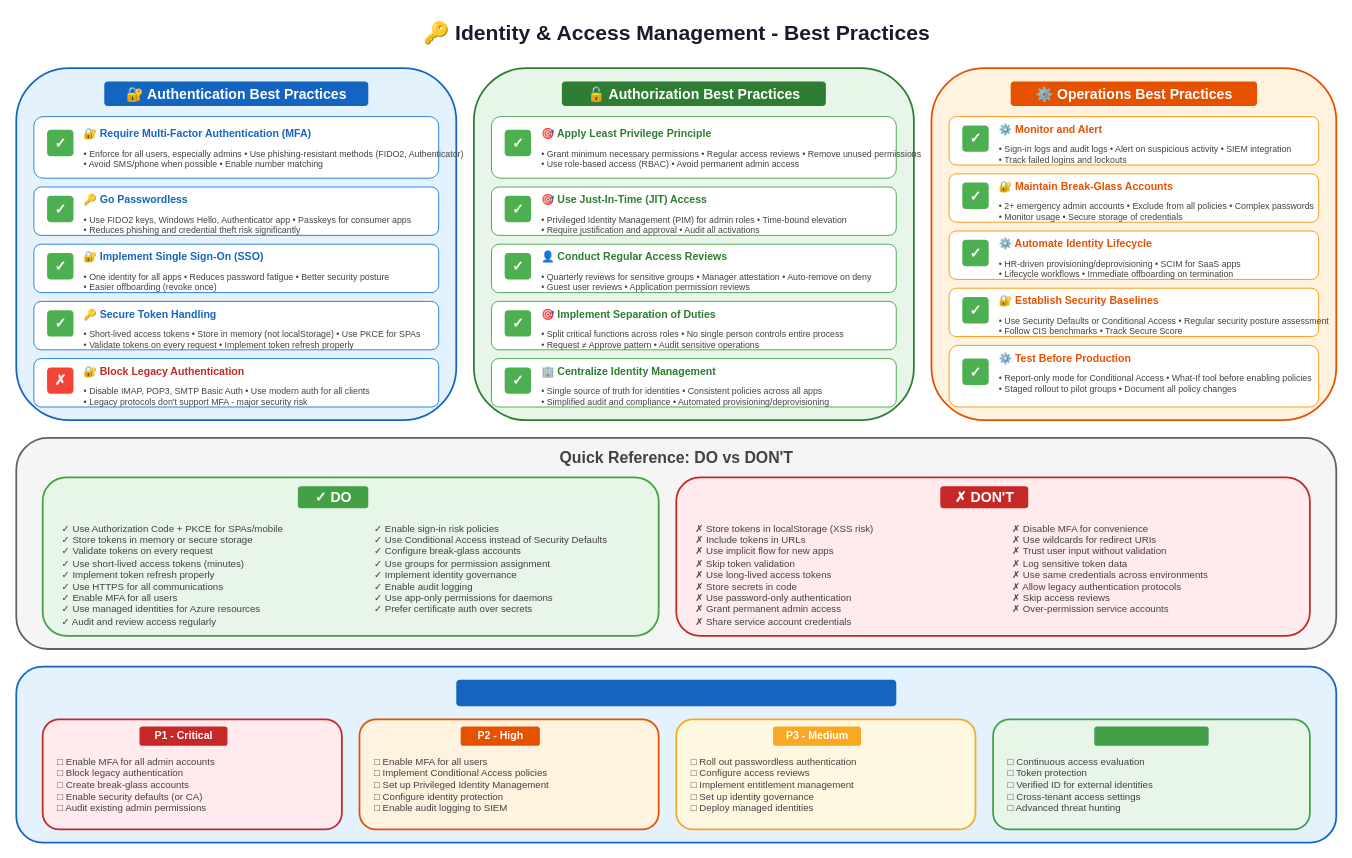
The diagram is 1352 pixels wide and 858 high, and some of its shapes have lost their labels. Each missing label, with the centre of its shape:
P4 - Optimization: pixel 1151 735
🎯 Implementation Priority - Start Here: pixel 676 692
